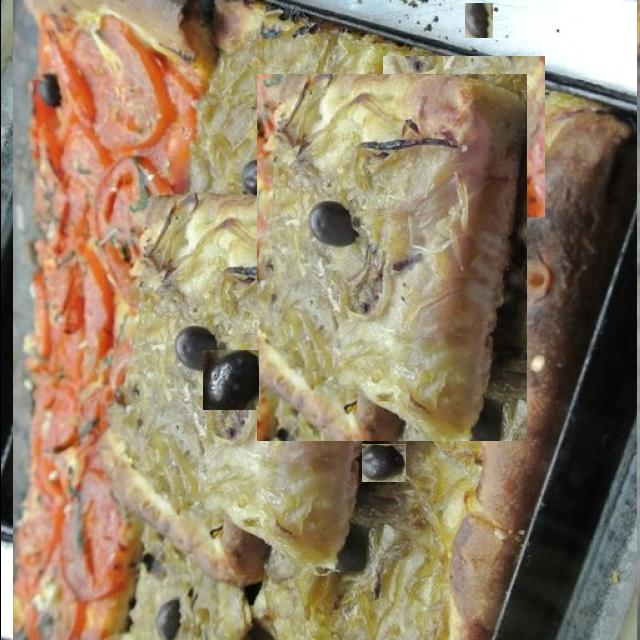olive: (202, 350, 258, 410), (422, 270, 474, 314), (361, 444, 405, 482), (464, 3, 492, 38), (587, 532, 610, 568)
pizza: (12, 0, 636, 640), (256, 74, 526, 441), (382, 56, 544, 217)
